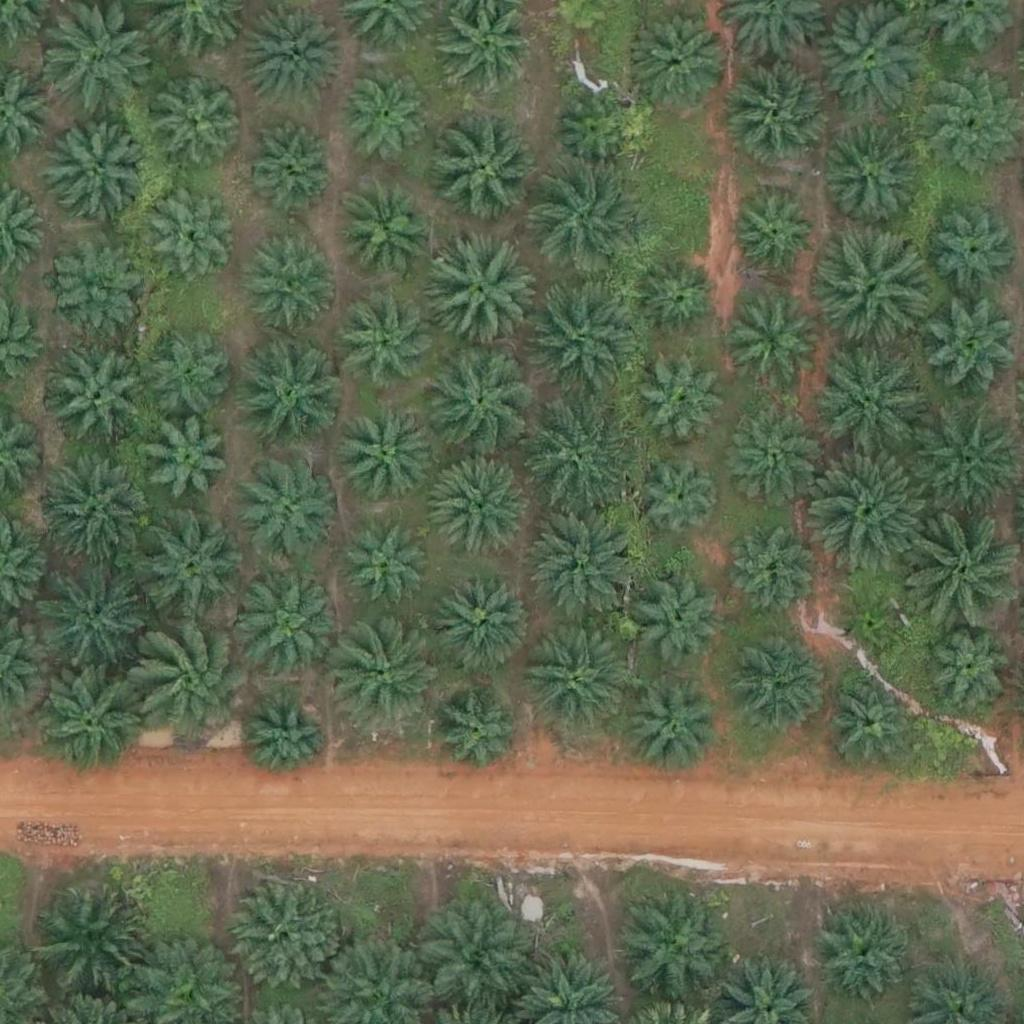Kelapa_Sawit: (132, 622, 257, 748), (618, 887, 731, 1001), (907, 510, 1020, 624), (816, 5, 929, 119), (530, 282, 643, 396), (427, 110, 540, 224), (229, 883, 342, 996), (816, 224, 929, 337), (420, 238, 533, 351), (36, 459, 149, 572), (36, 560, 149, 673), (32, 667, 145, 780), (518, 623, 630, 737), (41, 7, 153, 121), (420, 903, 532, 1016), (39, 880, 151, 993), (910, 403, 1022, 516), (815, 345, 927, 458), (812, 456, 924, 569), (533, 161, 645, 274), (521, 401, 633, 514), (529, 513, 641, 626), (423, 345, 535, 458), (333, 619, 445, 732), (132, 511, 244, 624), (813, 905, 913, 1006), (921, 618, 1021, 719), (916, 298, 1016, 399), (822, 125, 922, 226), (735, 65, 835, 166), (729, 636, 829, 737), (636, 6, 736, 107), (623, 680, 723, 781), (434, 571, 534, 672), (337, 179, 437, 280), (339, 296, 439, 397), (335, 407, 435, 508), (240, 228, 340, 329), (239, 347, 339, 448), (236, 456, 336, 557), (148, 68, 248, 169), (48, 123, 148, 224), (52, 352, 152, 453), (433, 454, 533, 554), (239, 10, 339, 110), (241, 579, 341, 679), (44, 235, 144, 335), (340, 77, 428, 166), (925, 90, 1013, 178), (730, 411, 818, 499), (639, 362, 727, 450), (635, 456, 723, 544), (553, 91, 641, 179), (445, 6, 533, 94), (435, 694, 523, 782), (245, 121, 333, 209), (827, 677, 914, 766), (731, 192, 818, 281), (347, 522, 434, 611), (932, 205, 1019, 293), (735, 307, 822, 395), (728, 527, 815, 615), (634, 259, 721, 347), (635, 573, 722, 661), (242, 694, 329, 782), (146, 189, 233, 277), (146, 330, 233, 418), (143, 418, 230, 506), (843, 595, 906, 658)
